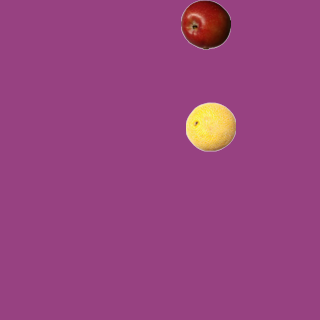Apple Braeburn: (180, 0, 230, 49)
Cantaloupe 1: (185, 101, 235, 151)
